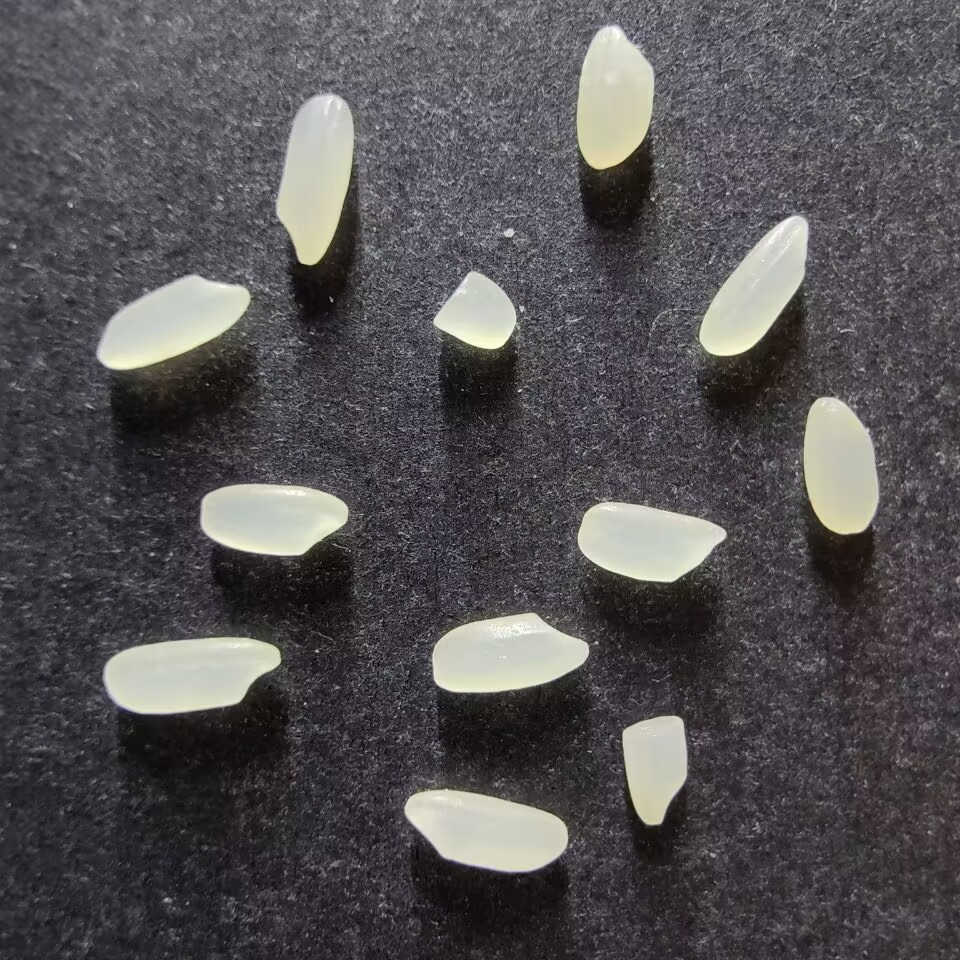broken: (618, 713, 689, 827), (431, 270, 521, 350)
rice: (697, 212, 809, 357), (94, 273, 252, 371), (101, 637, 283, 716), (402, 787, 568, 873), (272, 92, 354, 266), (429, 612, 590, 694), (575, 500, 729, 583), (573, 24, 657, 170), (198, 482, 350, 557), (800, 395, 880, 535)
